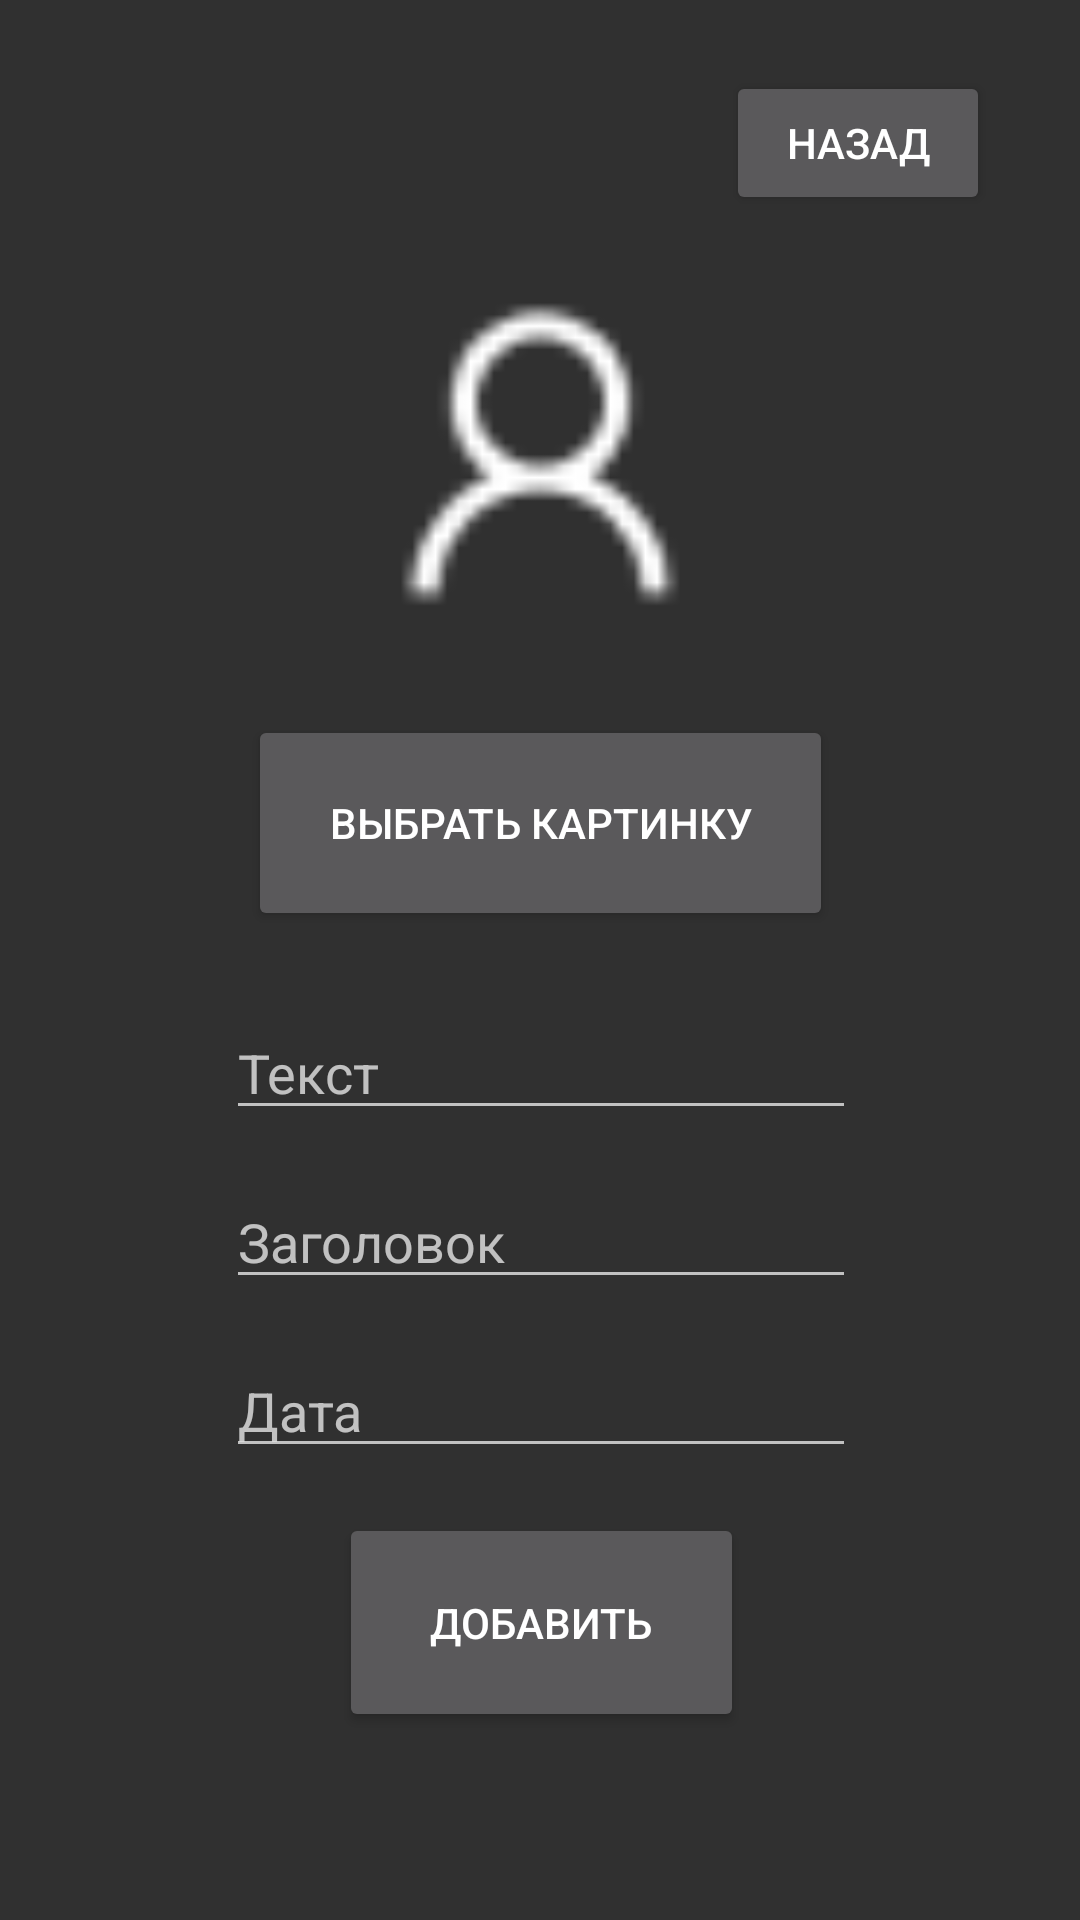

Icons on this 1080px×1920px Android screen, each with its box as {"left": x1, "top": y1, "right": x2, "bottom": y2}:
contacts: {"left": 404, "top": 305, "right": 676, "bottom": 602}
